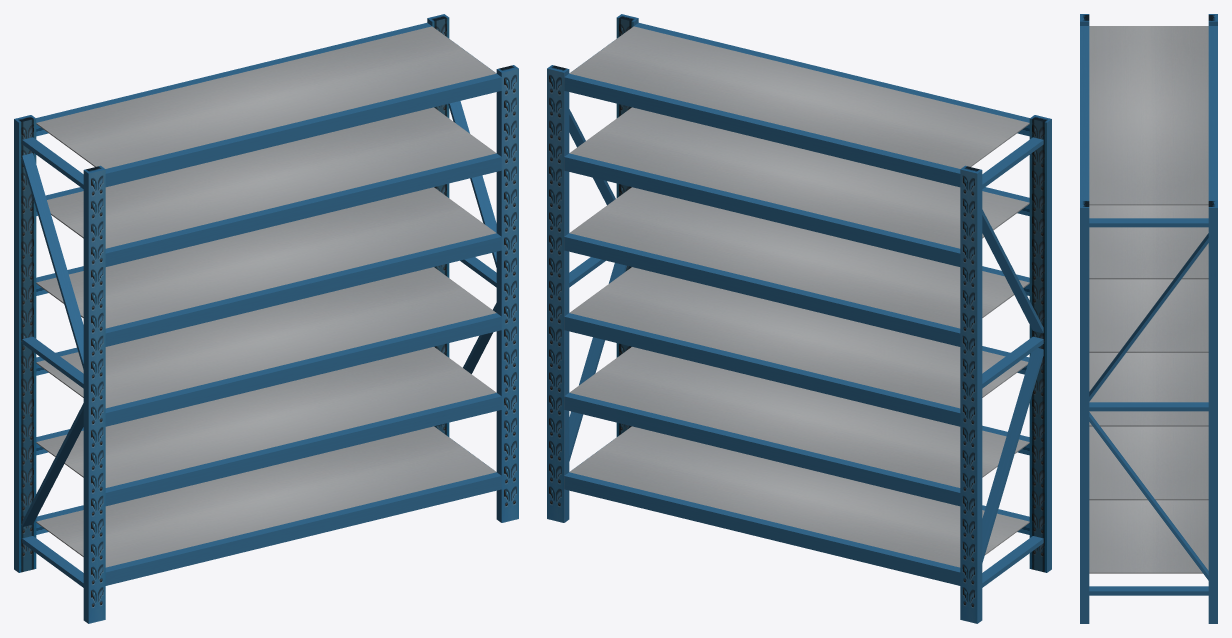
The model's file is myModel.obj.
3 renders of one model, left to right at view 1: azimuth 30°, elevation 25°; view 2: azimuth 150°, elevation 25°; view 3: azimuth 270°, elevation 25°, orthographic. The views are drawn at different scales.
Parts seen in each view (by area): view 1: Mesh0; view 2: Mesh0; view 3: Mesh0.
Part boxes in pixels (box(x1,y1,x2,y2)): Mesh0: box(14, 14, 518, 623); Mesh0: box(547, 14, 1051, 623); Mesh0: box(1080, 14, 1217, 623).
Bounding box in the file's own units: 2000 × 2000 × 600.
Materials: 1 (1 with a texture image).
